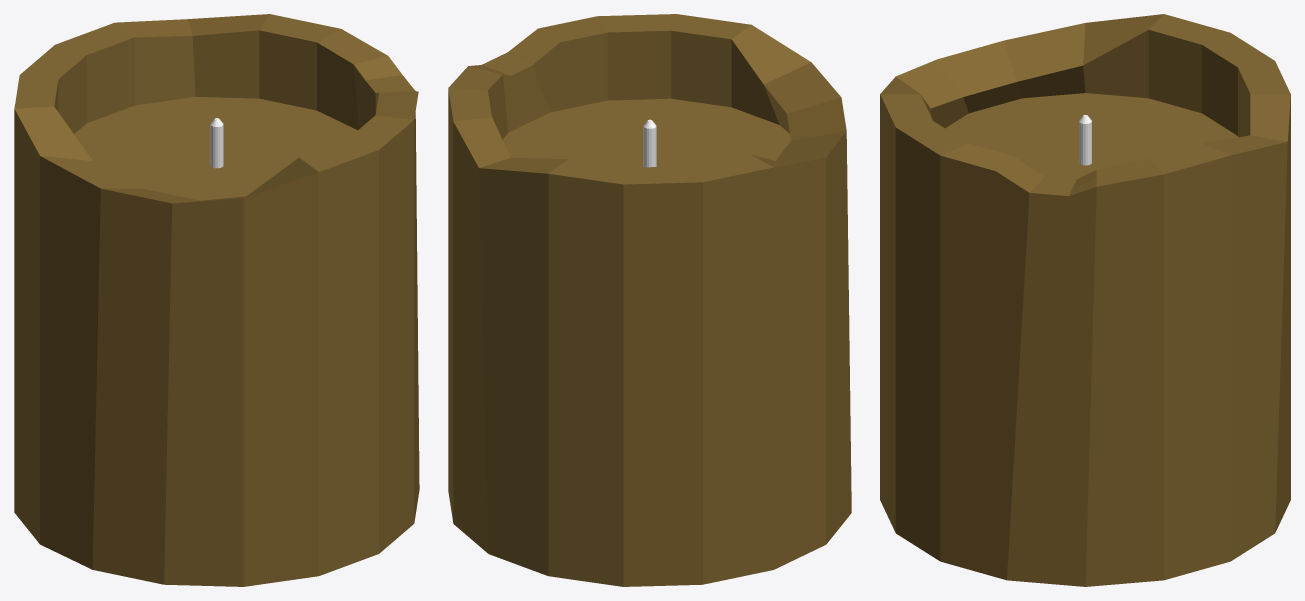
The model's file is candle.glb.
3 renders of one model, left to right at view 1: azimuth 30°, elevation 25°; view 2: azimuth 150°, elevation 25°; view 3: azimuth 270°, elevation 25°, orthographic.
Visible parts, largest first — view 1: Cylinder; view 2: Cylinder; view 3: Cylinder.
Boxes of the visible parts, left/top/right/bottom form: Cylinder: left=14, top=14, right=419, bottom=586; Cylinder: left=448, top=14, right=851, bottom=586; Cylinder: left=880, top=14, right=1290, bottom=586.
Bounding box in the file's own units: 0.2203 × 0.24 × 0.22.
